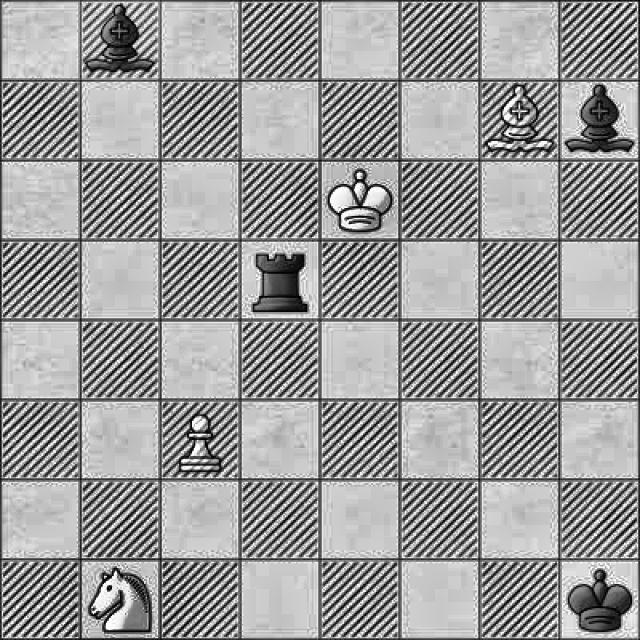black bishop: (560, 82, 640, 162), (81, 2, 157, 78)
black king: (561, 558, 640, 639)
black rook: (248, 249, 316, 318)
white bishop: (485, 82, 557, 161)
white king: (326, 163, 396, 240)
white pawn: (170, 408, 224, 474)
whiteknight: (83, 565, 157, 637)
